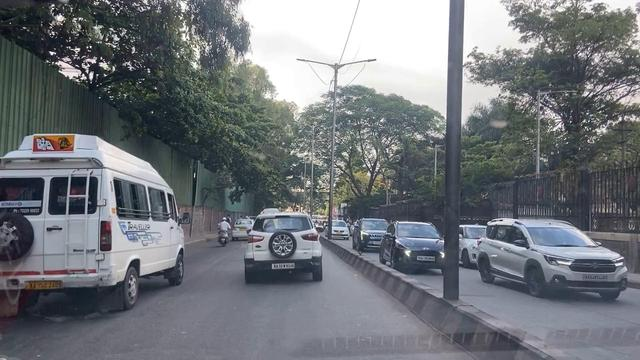HMV: (3, 140, 187, 317), (245, 215, 323, 284)
